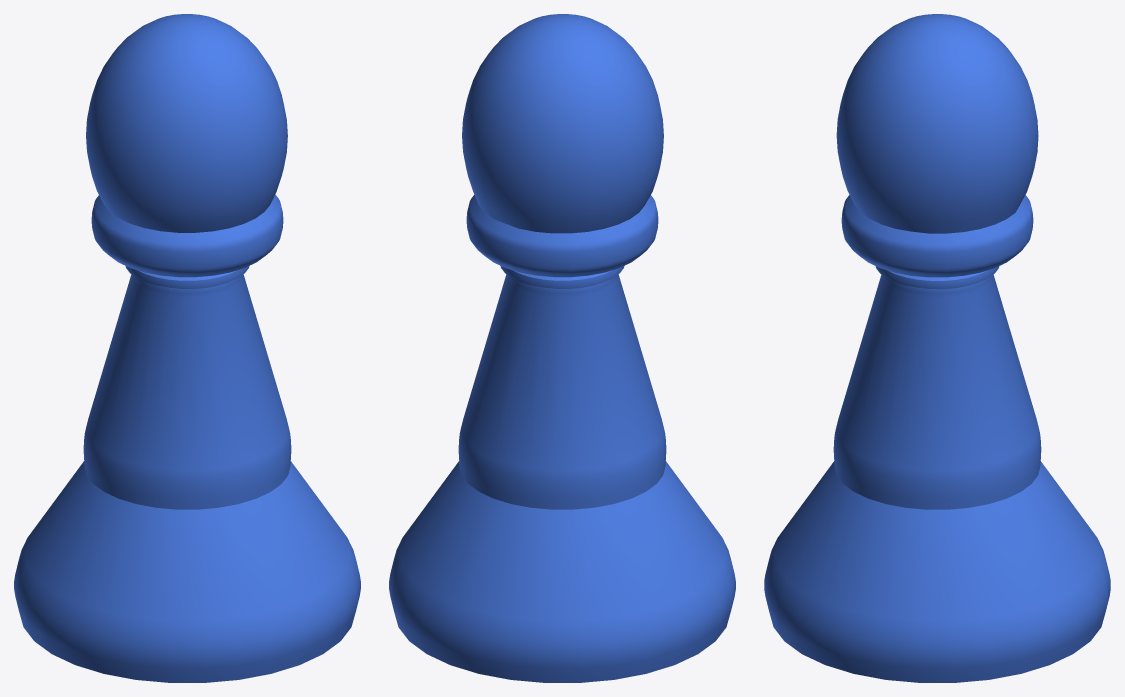
Rendered from blue.glb.
3 views of the same model, side by side, from view 1: azimuth 30°, elevation 25°; view 2: azimuth 150°, elevation 25°; view 3: azimuth 270°, elevation 25° (orthographic).
Parts seen in each view (by area): view 1: blue; view 2: blue; view 3: blue.
Boxes of the visible parts, x1=… form: blue: x1=14, y1=14, x2=360, y2=682; blue: x1=389, y1=14, x2=735, y2=682; blue: x1=764, y1=14, x2=1110, y2=682.
Bounding box in the file's own units: 0.0242 × 0.0458 × 0.0243.
